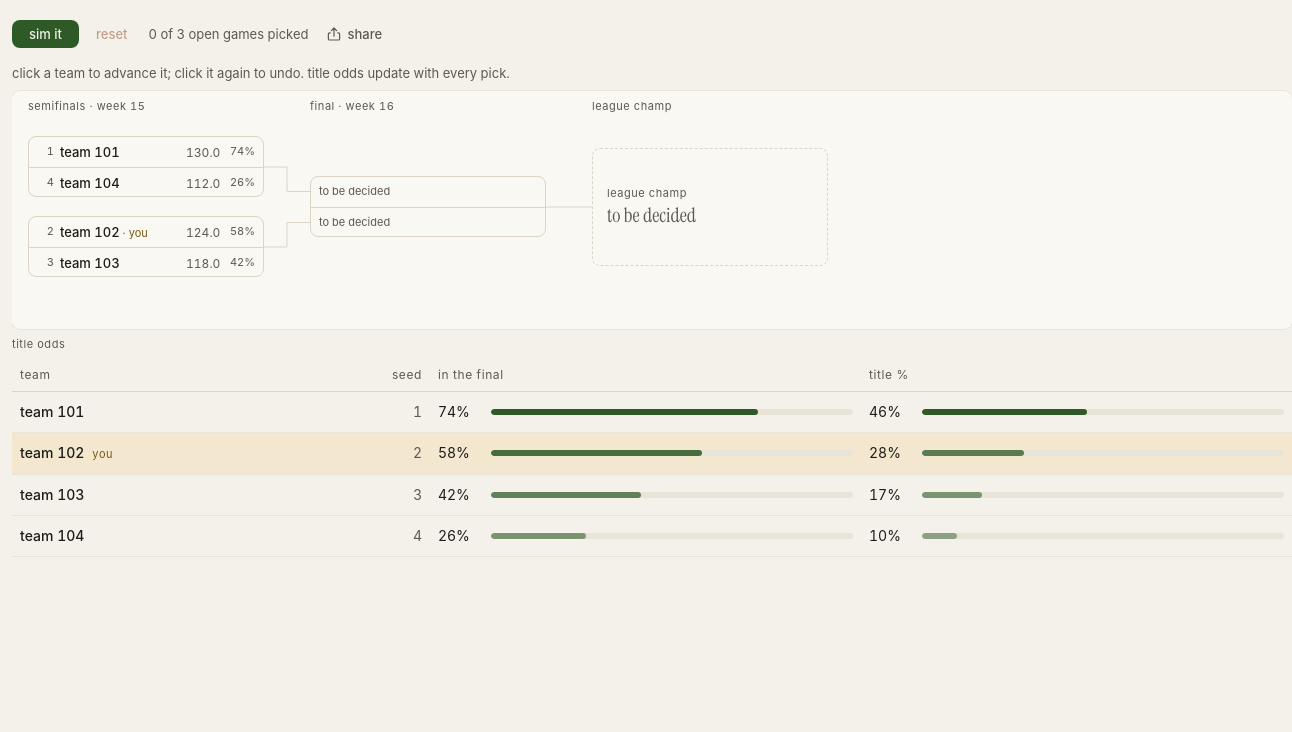
Test: Bracket: click to advance › shows the head-to-head numbers in a tooltip on hover and on focus
Hover over the button "1 Team 101 130.0 74%" at [146, 152], box left=29, top=137, right=263, bottom=167
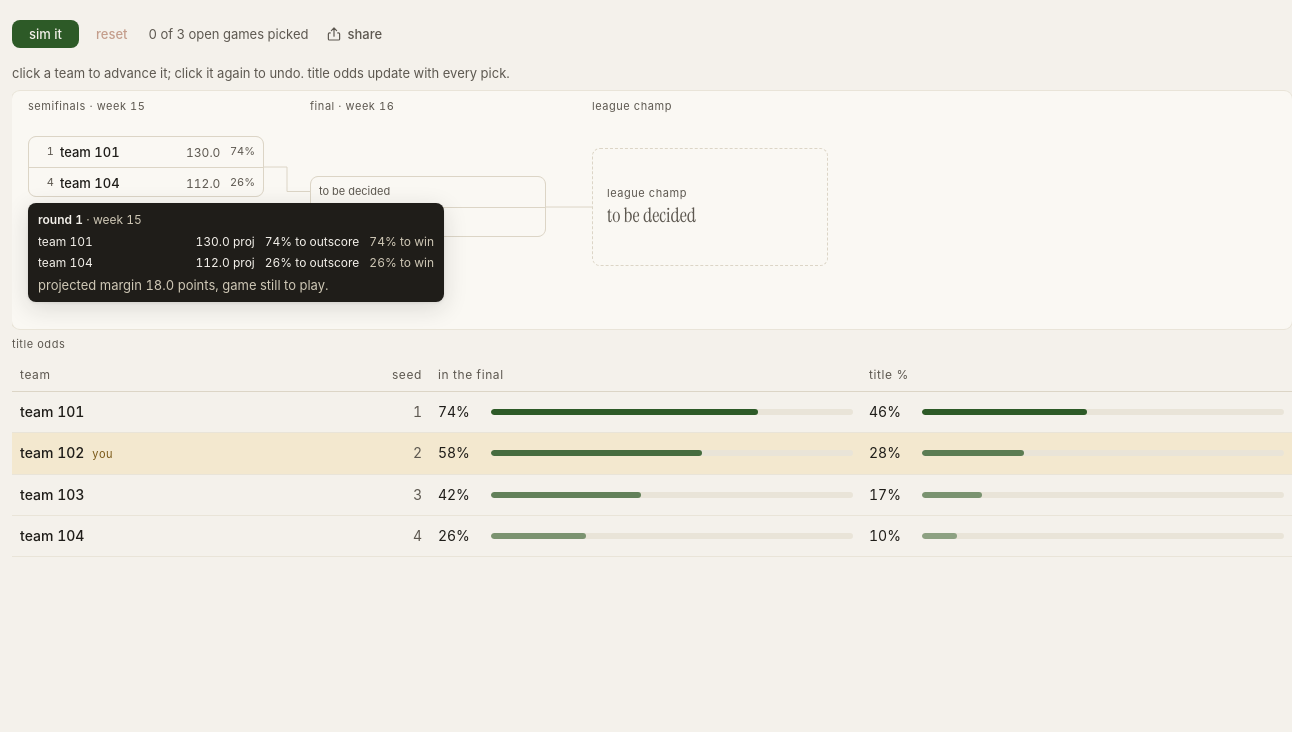
Now the tooltip shows "round 1", box left=28, top=203, right=444, bottom=302
Now the tooltip shows "week 15", box left=93, top=212, right=142, bottom=227
Now the tooltip shows "Team 101", box left=38, top=234, right=93, bottom=249
Move the pointer off the button "1 Team 101 130.0 74%", box left=29, top=137, right=263, bottom=167
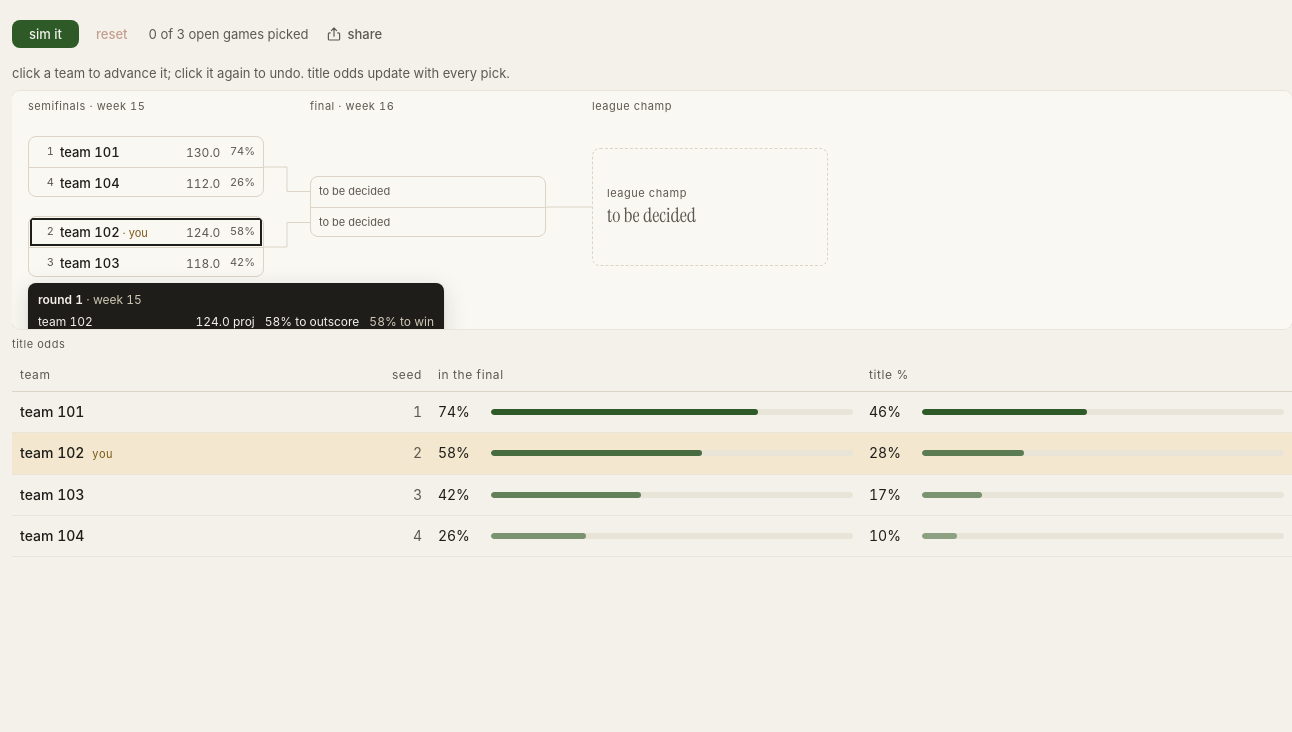
Now the tooltip shows "Team 102", box left=38, top=314, right=93, bottom=329
Press Escape
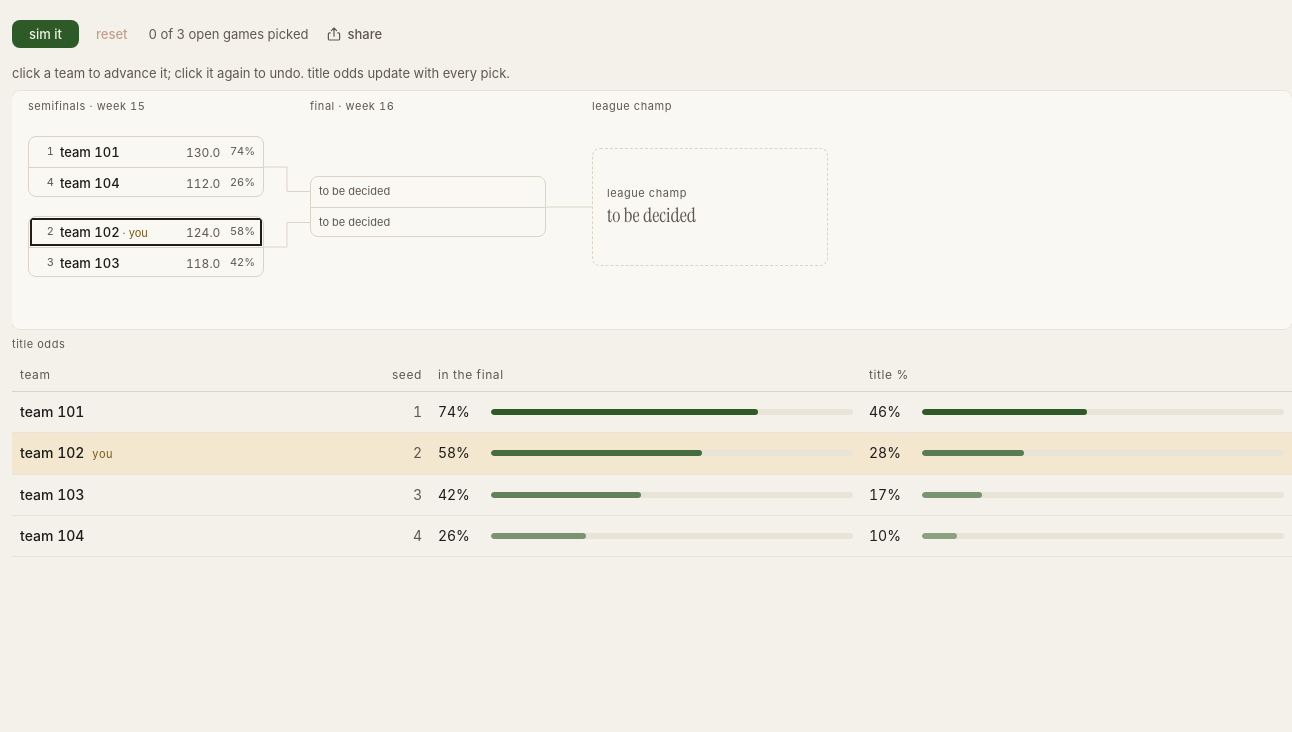
Now the tooltip "round 1· week 15 Team 102 124.0 proj 58% to outscore 58% to win" is gone
